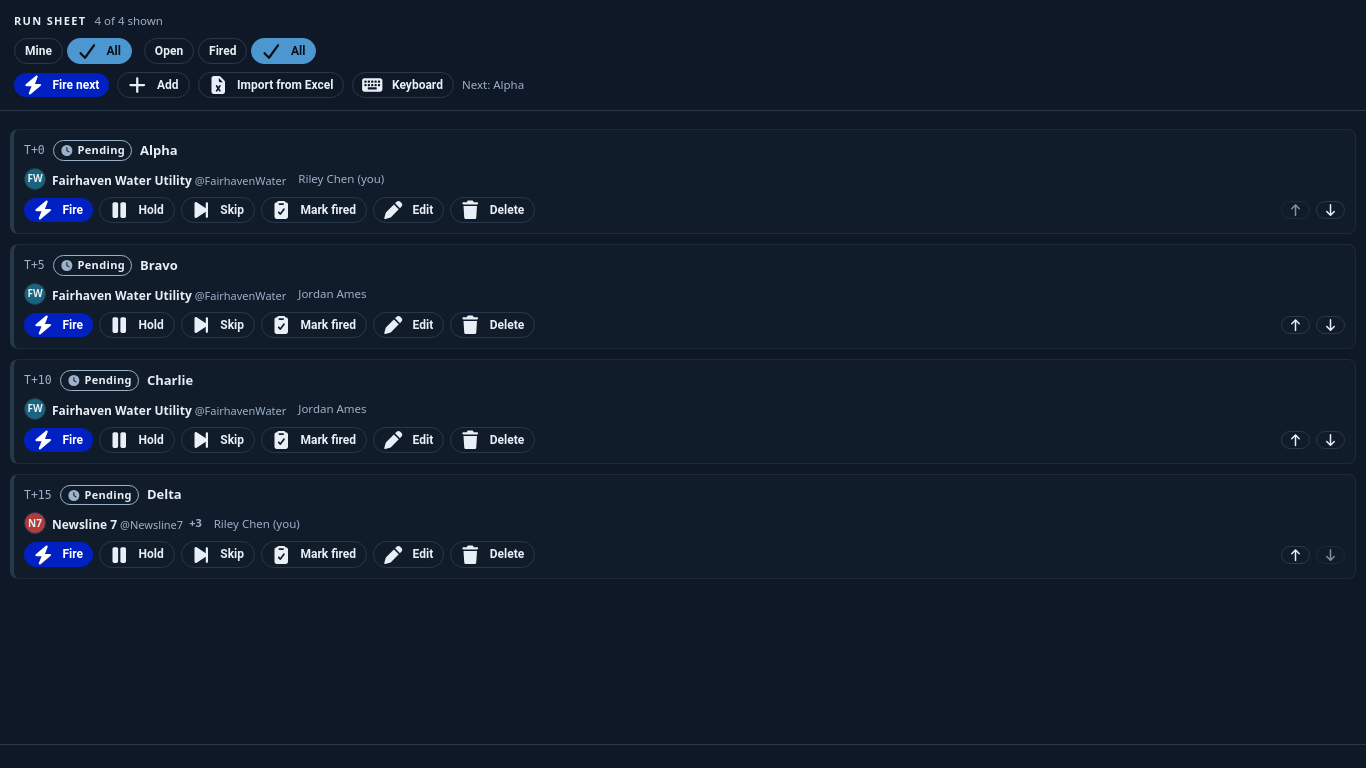
Scenario: RunSheetPanel — the list › shows status as text + icon on every row (never colour alone)
Click the button with aria-label "Skip Charlie": (218, 440) x1=181 y1=427 x2=255 y2=453
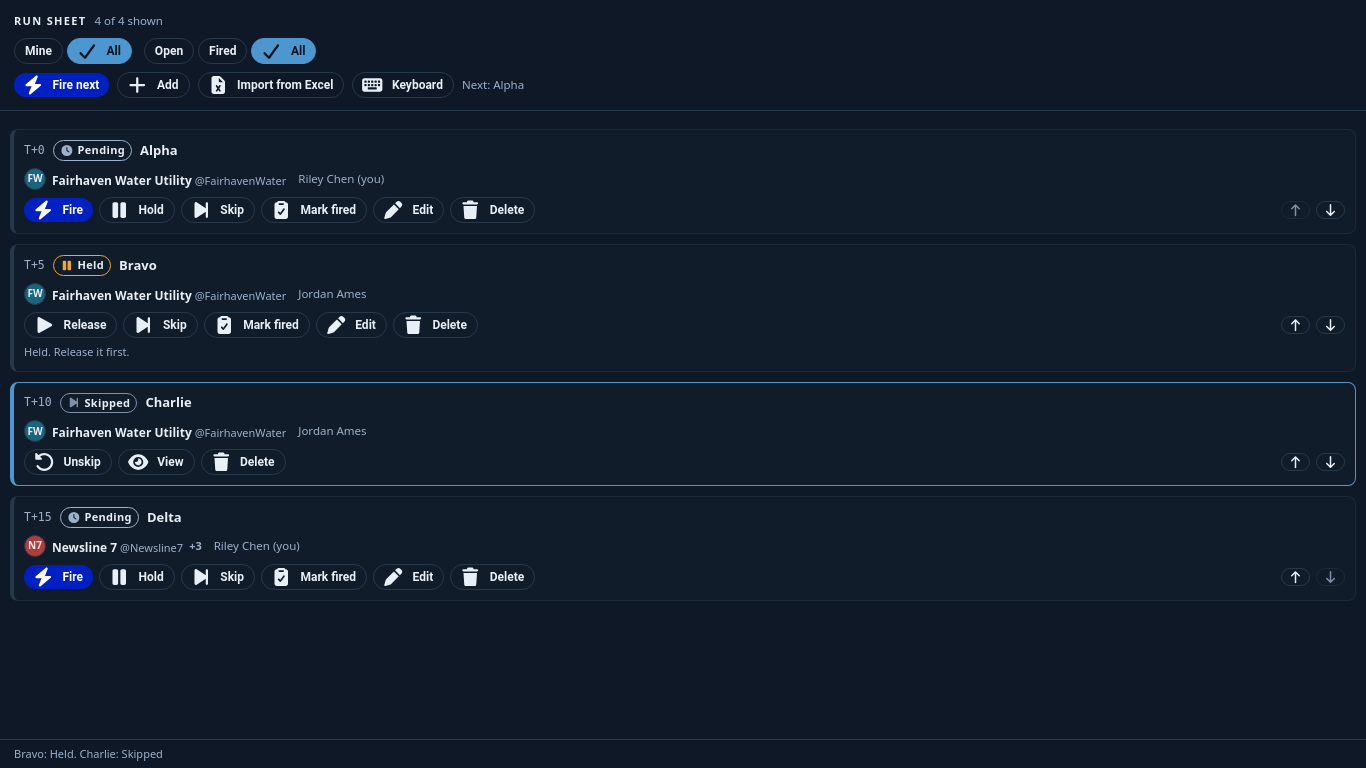
Check: the text with test id "status-text" next to "T+0" reads "Pending", box x1=78 y1=142 x2=125 y2=157
Check: the text with test id "status-text" reads "Skipped", box x1=84 y1=395 x2=130 y2=410
